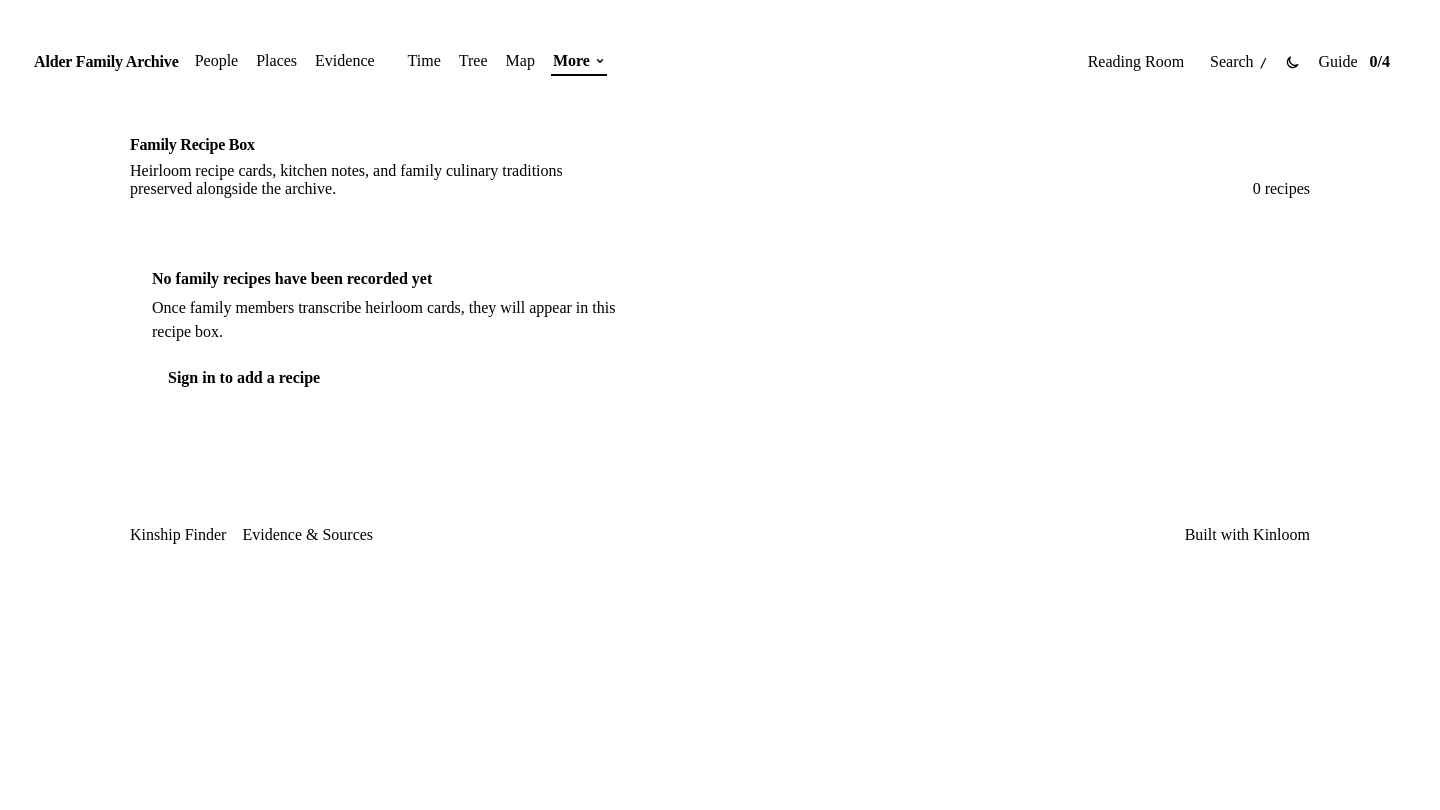
Test: Issue #112 — /recipes empty-state filter hiding & recovery CTA › hides the 4-control filter bar when 0 recipes exist and shows viewer Sign-In CTA
This screenshot has width=1440, height=810.
Click the button "Sign in to add a recipe" at (244, 378), box [152,358,336,398]
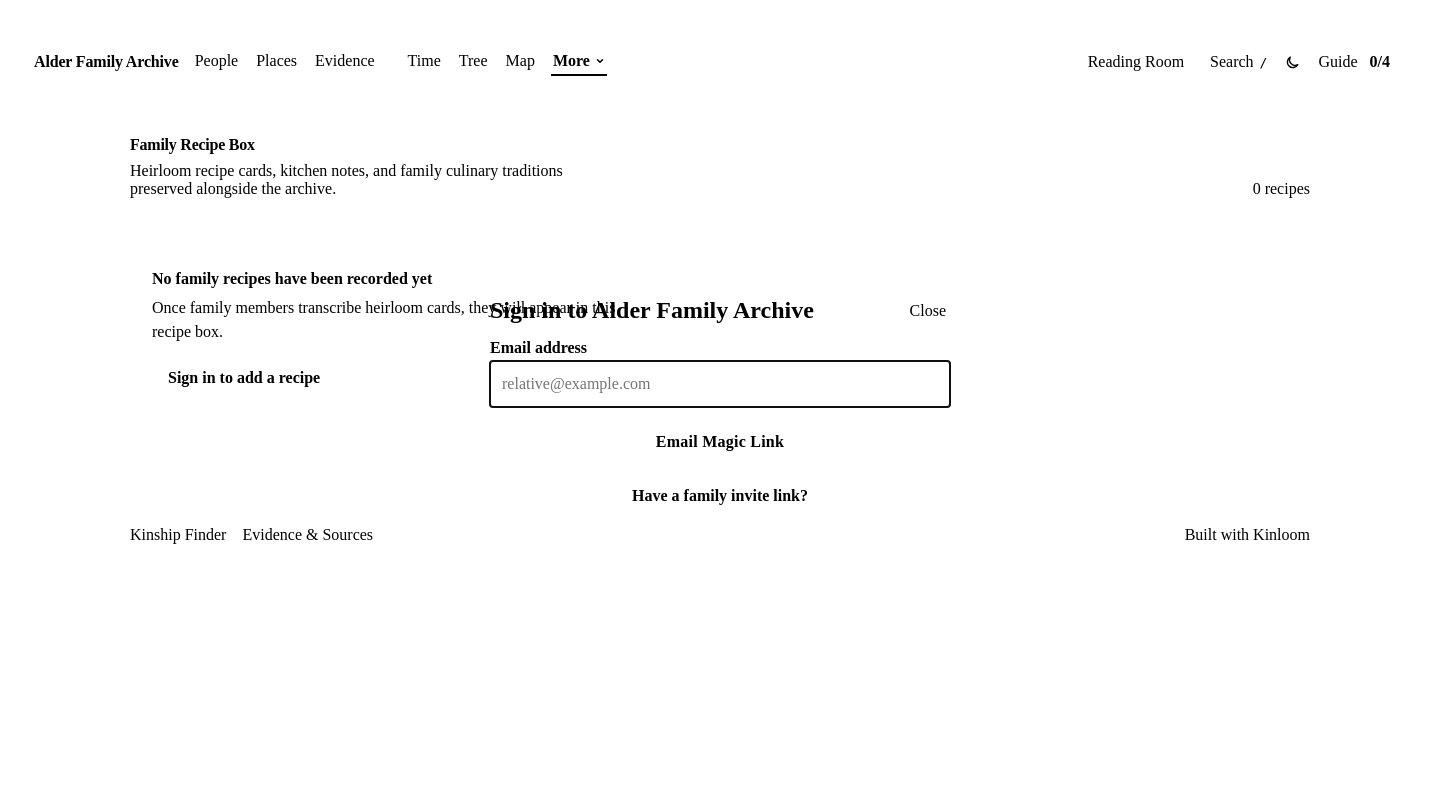
Now the dialog is shown
